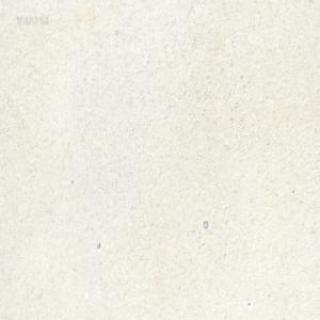Washertrack_idkeyframe: (202, 218, 207, 228)
